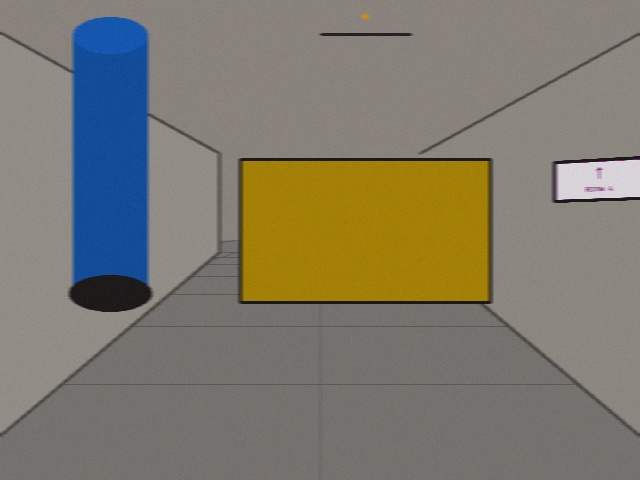directional_sign: (554, 157, 639, 201)
forklift: (240, 16, 490, 302)
person: (73, 35, 147, 293)
